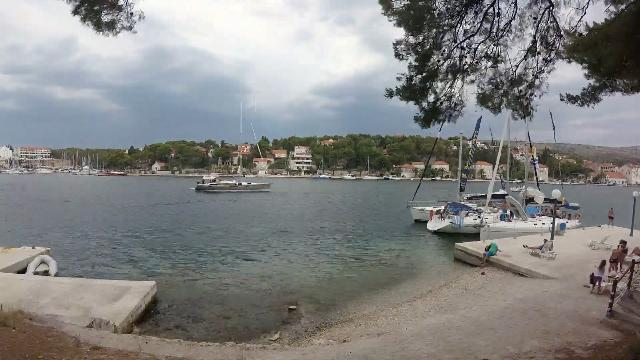Sailboat: (182, 169, 282, 200)
